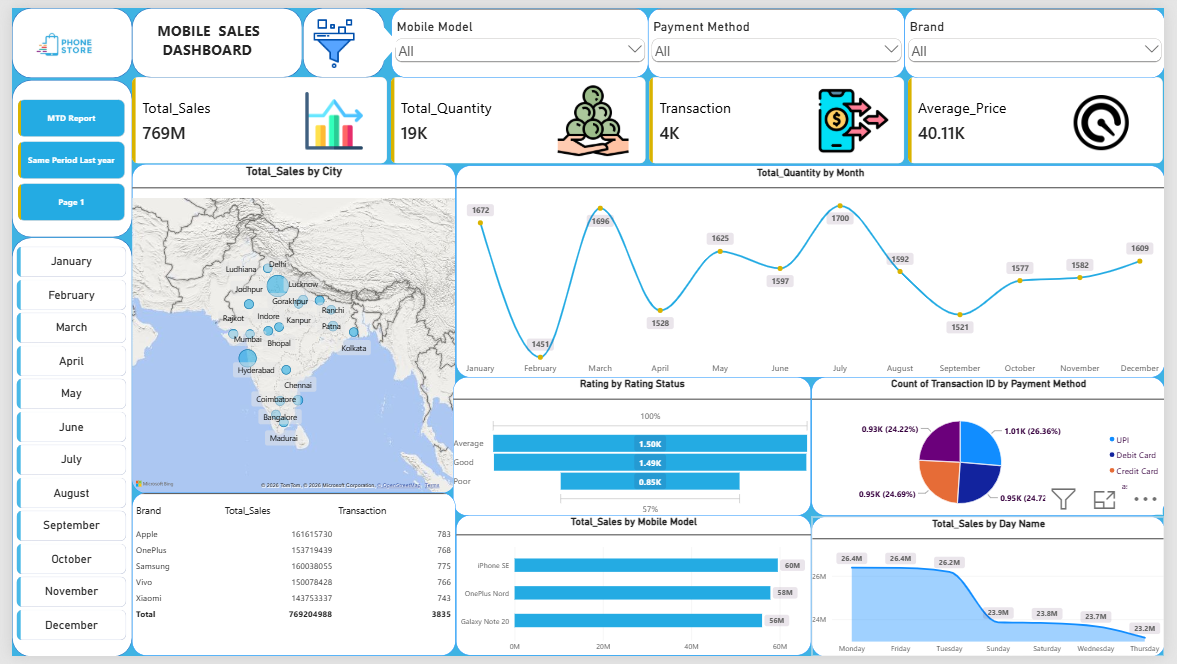

This screenshot's page, from the dashboard's own definition file:
{"tool":"powerbi","page":{"name":"Dashboard","canvas":[1920,1080],"ordinal":0},"visuals":[{"type":"shape","box":[0,0,200.4,116.9],"z":0},{"type":"image","box":[0,0,176,120],"z":1000},{"type":"shape","box":[0,381.7,200.4,699.1],"z":2000},{"type":"shape","box":[0,119.3,200.4,262.5],"z":3000},{"type":"advancedSlicerVisual","fields":{"Values":["Custom_cal.Date.Variation.Date Hierarchy.Month"]},"box":[7.2,398.4,183.7,663.3],"z":4000},{"type":"cardVisual","fields":{"Data":["Sales_Data.Total_Sales","Sales_Data.Total_Quantity","Sales_Data.Transaction","Sales_Data.Average_Price"]},"box":[200,116,1719.4,144.4],"z":5000},{"type":"image","box":[1342,130,120,116],"z":6000},{"type":"image","box":[468,140,138,96],"z":7000},{"type":"image","box":[878,126,182,126],"z":8000},{"type":"image","box":[1730,144,170,92],"z":9000},{"type":"slicer","fields":{"Values":["Sales_Data.Mobile Model"]},"box":[632,0,428,116],"z":10000},{"type":"shape","box":[484,0,136,116],"z":11000},{"type":"shape","box":[566,14,80,90],"z":12000},{"type":"image","box":[468,18,138,84],"z":13000},{"type":"shape","box":[200,0,284,116],"z":14000},{"type":"textbox","box":[238,20,246,78],"z":15000},{"type":"slicer","fields":{"Values":["Sales_Data.Payment Method"]},"box":[1059.3,0,428,116],"z":16000},{"type":"slicer","fields":{"Values":["Sales_Data.Brand"]},"box":[1486.4,0,434.2,116.9],"z":17000},{"type":"map","fields":{"Category":["Sales_Data.City"],"Size":["Sales_Data.Total_Sales"]},"box":[200.4,260.1,539.2,548.8],"z":18000},{"type":"lineChart","fields":{"Category":["Custom_cal.Date.Variation.Date Hierarchy.Month"],"Y":["Sales_Data.Total_Quantity"]},"box":[739.6,262.5,1181,353.1],"z":19000},{"type":"funnel","title":"Rating by Rating Status","fields":{"Category":["Sales_Data.Rating Status"],"Y":["CountNonNull(Sales_Data.Customer Age)"]},"box":[734.9,615.6,596.5,231.4],"z":20000},{"type":"pieChart","fields":{"Category":["Sales_Data.Payment Method"],"Y":["CountNonNull(Sales_Data.Transaction ID)"]},"box":[1331.3,615.6,589.3,231.4],"z":21000},{"type":"clusteredBarChart","fields":{"Category":["Sales_Data.Mobile Model"],"Y":["Sales_Data.Total_Sales"]},"box":[739.6,844.6,591.7,233.8],"z":22000},{"type":"areaChart","fields":{"Category":["Custom_cal.Day Name"],"Y":["Sales_Data.Total_Sales"]},"box":[1331.3,847,589.3,233.8],"z":23000},{"type":"tableEx","fields":{"Values":["Sales_Data.Brand","Sales_Data.Total_Sales","Sales_Data.Transaction"]},"box":[200.4,806.4,539.2,272],"z":24000},{"type":"pageNavigator","box":[9.5,152.7,178.9,202.8],"z":24001}]}

Visuals, with their boxes in screenshot pixels (x1, y1, x2, y2), scaled from the page's 1920x1080 canvas onto the 1177x664 screenshot:
shape: locate(0, 0, 123, 72)
image: locate(0, 0, 108, 74)
shape: locate(0, 235, 123, 663)
shape: locate(0, 73, 123, 235)
advancedSlicerVisual - Custom_cal.Date.Variation.Date Hierarchy.Month: locate(4, 245, 117, 653)
cardVisual - Sales_Data.Total_Sales x Sales_Data.Total_Quantity: locate(123, 71, 1176, 160)
image: locate(823, 80, 896, 151)
image: locate(287, 86, 371, 145)
image: locate(538, 77, 650, 155)
image: locate(1061, 89, 1165, 145)
slicer - Sales_Data.Mobile Model: locate(387, 0, 650, 71)
shape: locate(297, 0, 380, 71)
shape: locate(347, 9, 396, 64)
image: locate(287, 11, 371, 63)
shape: locate(123, 0, 297, 71)
textbox: locate(146, 12, 297, 60)
slicer - Sales_Data.Payment Method: locate(649, 0, 912, 71)
slicer - Sales_Data.Brand: locate(911, 0, 1176, 72)
map - Sales_Data.City x Sales_Data.Total_Sales: locate(123, 160, 453, 497)
lineChart - Custom_cal.Date.Variation.Date Hierarchy.Month x Sales_Data.Total_Quantity: locate(453, 161, 1176, 378)
"Rating by Rating Status" funnel: locate(451, 378, 816, 521)
pieChart - Sales_Data.Payment Method x CountNonNull(Sales_Data.Transaction ID): locate(816, 378, 1176, 521)
clusteredBarChart - Sales_Data.Mobile Model x Sales_Data.Total_Sales: locate(453, 519, 816, 663)
areaChart - Custom_cal.Day Name x Sales_Data.Total_Sales: locate(816, 521, 1176, 663)
tableEx - Sales_Data.Brand x Sales_Data.Total_Sales: locate(123, 496, 453, 663)
pageNavigator: locate(6, 94, 115, 219)
